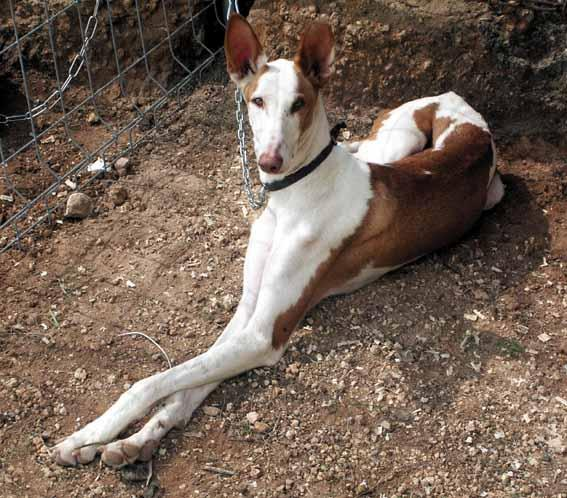Ibizan_hound: (51, 12, 508, 471)
